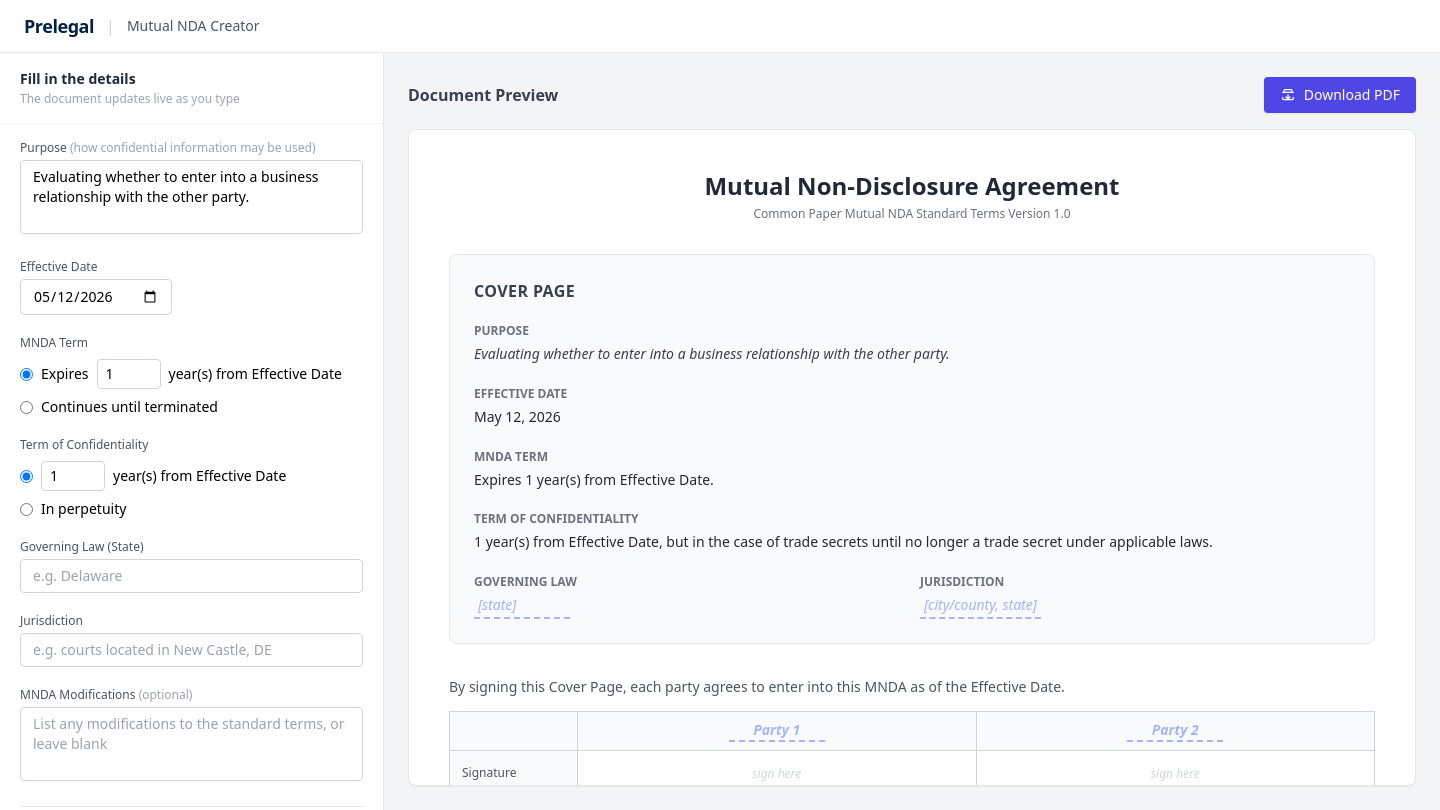
Home page – live preview updates › switching MNDA term to 'until_terminated' updates the preview clause 5 text
Click the radio button labelled "Continues until terminated" at (26, 407), box [20,400,33,414]
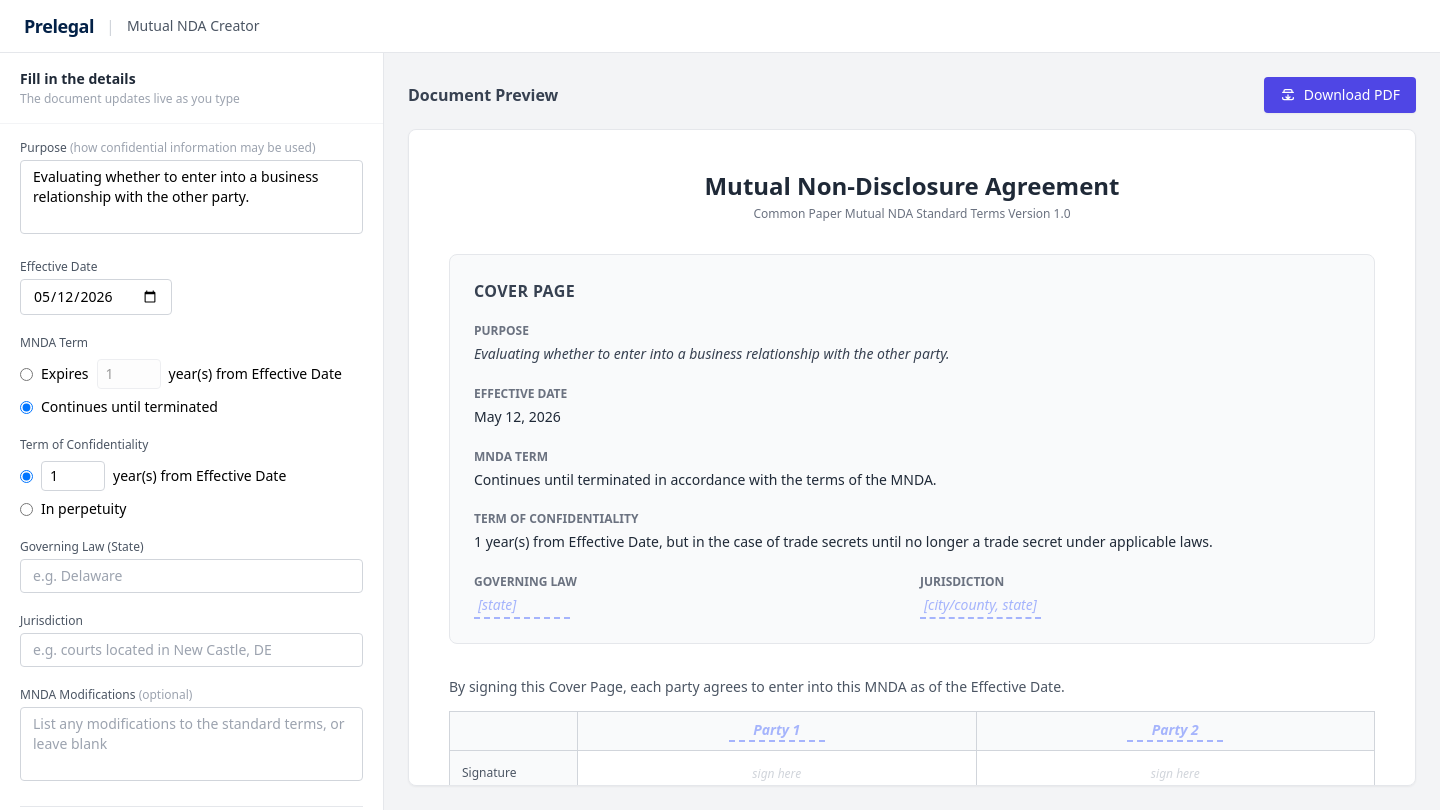
Expected: the text "until terminated in accordance with the terms of the MNDA" is shown, [474,470,937,488]
